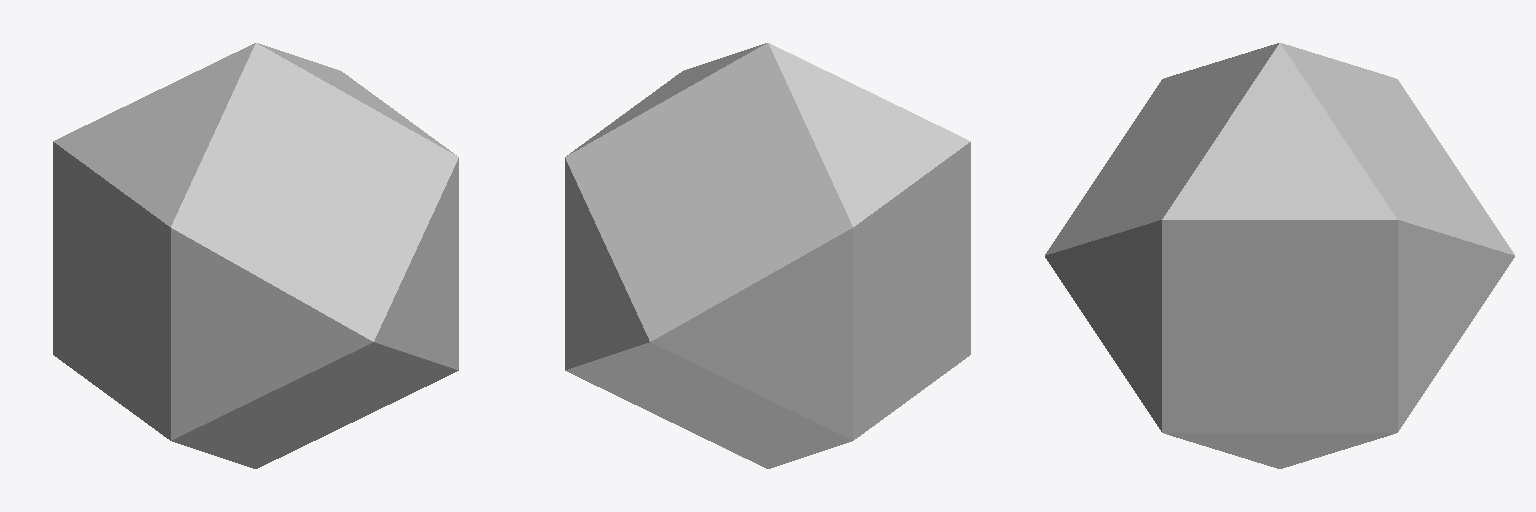
File: sun.obj
The picture shows the model from 3 angles: view 1: azimuth 30°, elevation 25°; view 2: azimuth 150°, elevation 25°; view 3: azimuth 270°, elevation 25°; orthographic projection.
Visible parts, largest first — view 1: Hedra001; view 2: Hedra001; view 3: Hedra001.
Boxes of the visible parts, <box> form: Hedra001: <box>53,43,458,468</box>; Hedra001: <box>565,43,970,468</box>; Hedra001: <box>1045,43,1514,468</box>.
Size of the model in its own units: 6.18 by 8.75 by 8.75.